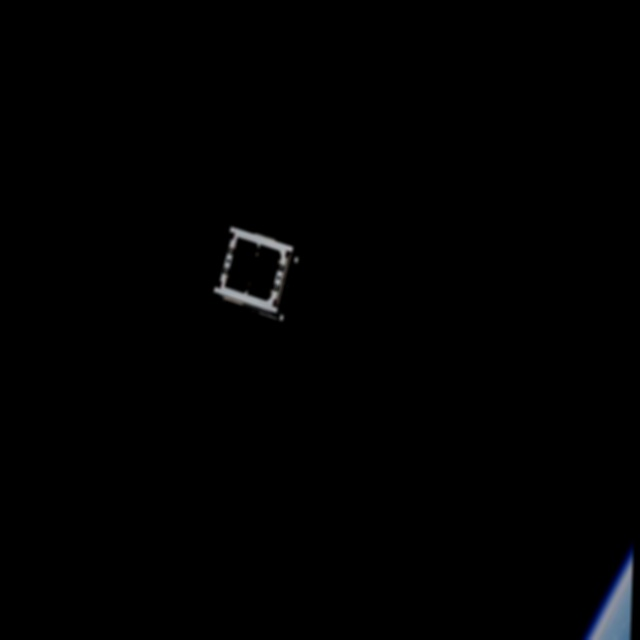satellite: (209, 228, 307, 326)
